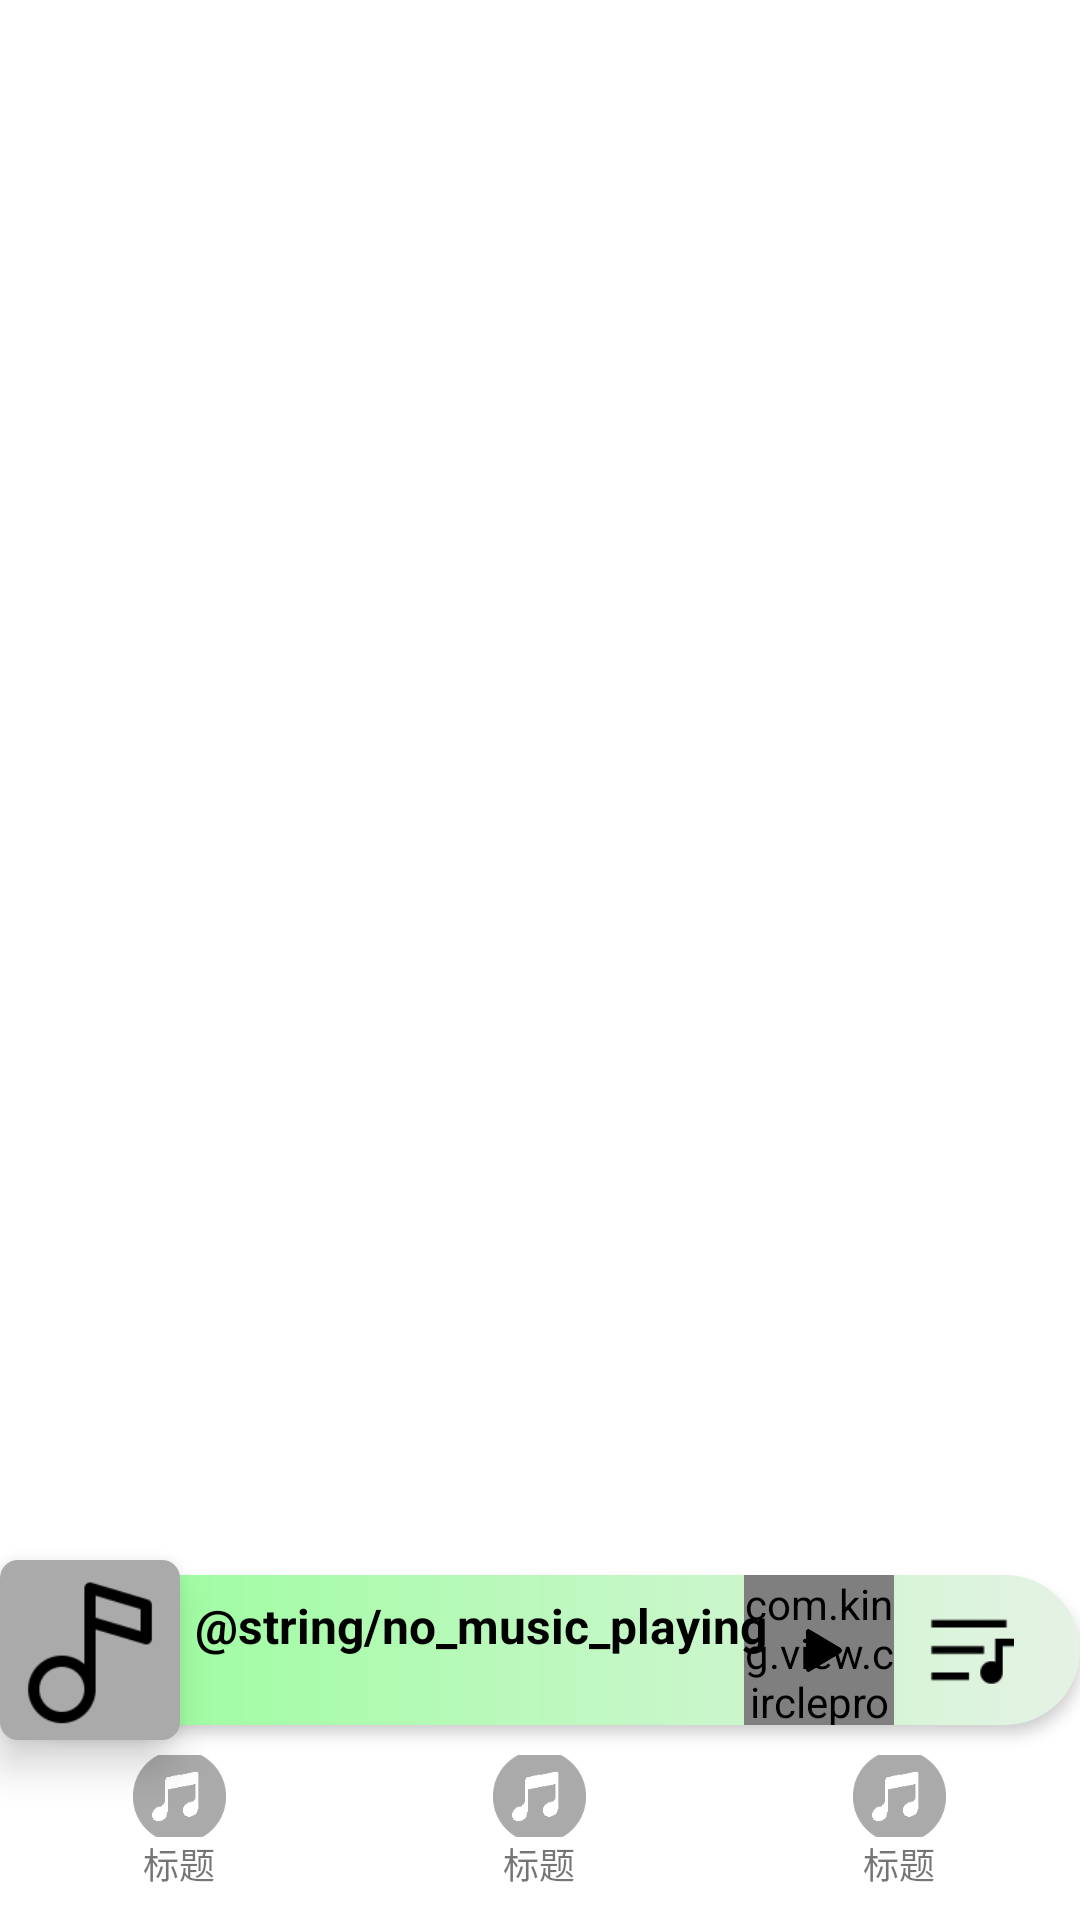

Named icons in this screenshot (1080 × 1920) and their centers, [x,y]:
play list: [969,1650]
